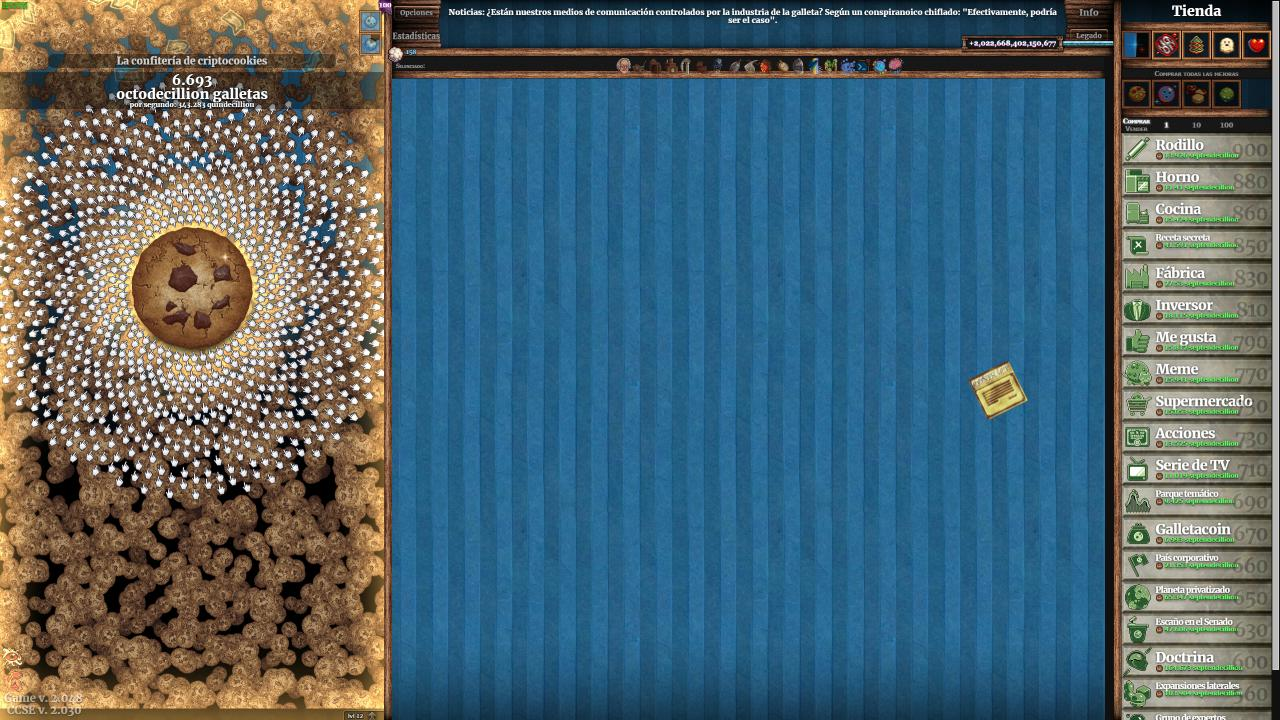GoldenCartridge: (966, 357, 1030, 424)
